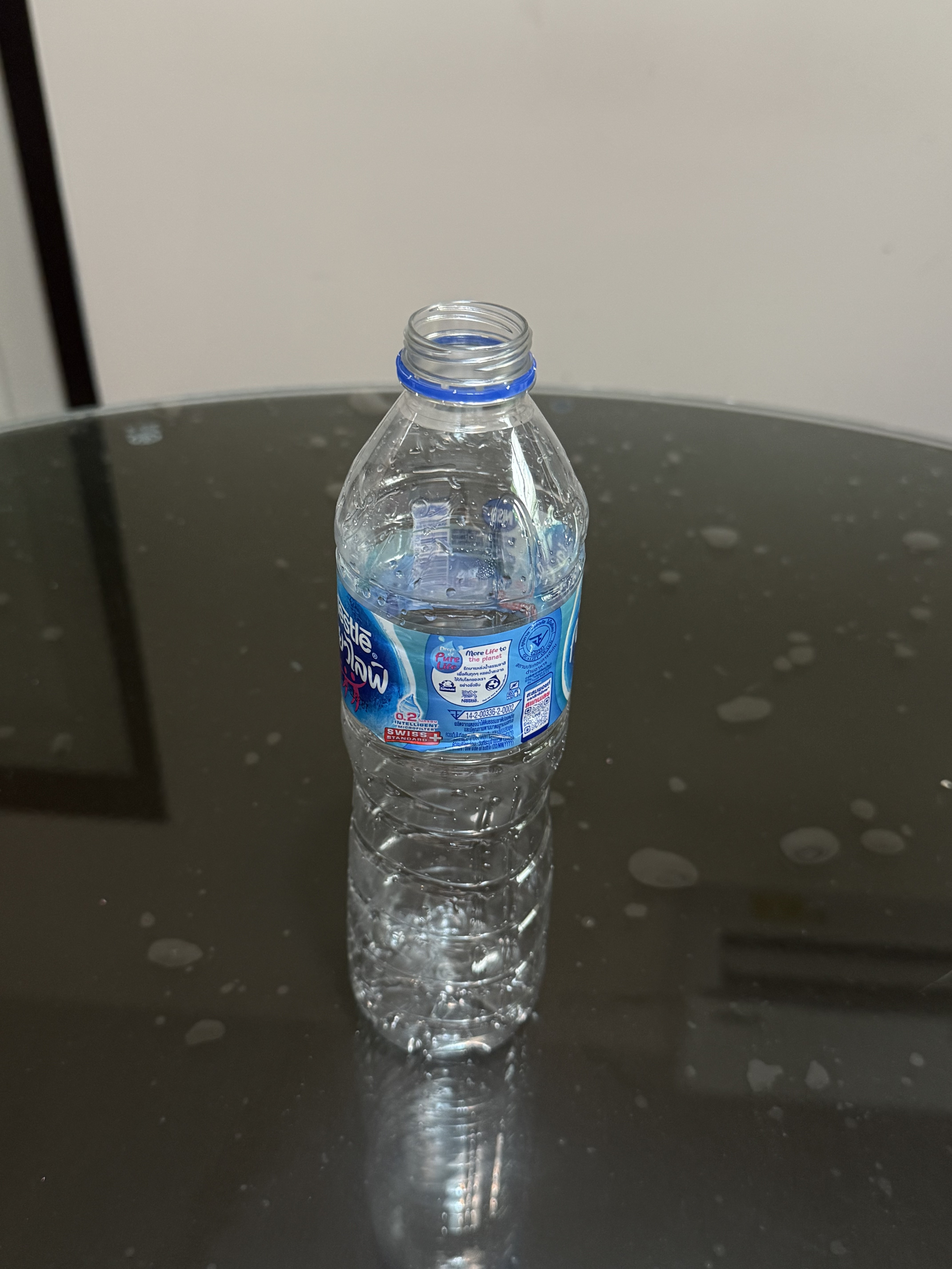no_cap: (391, 295, 542, 407)
